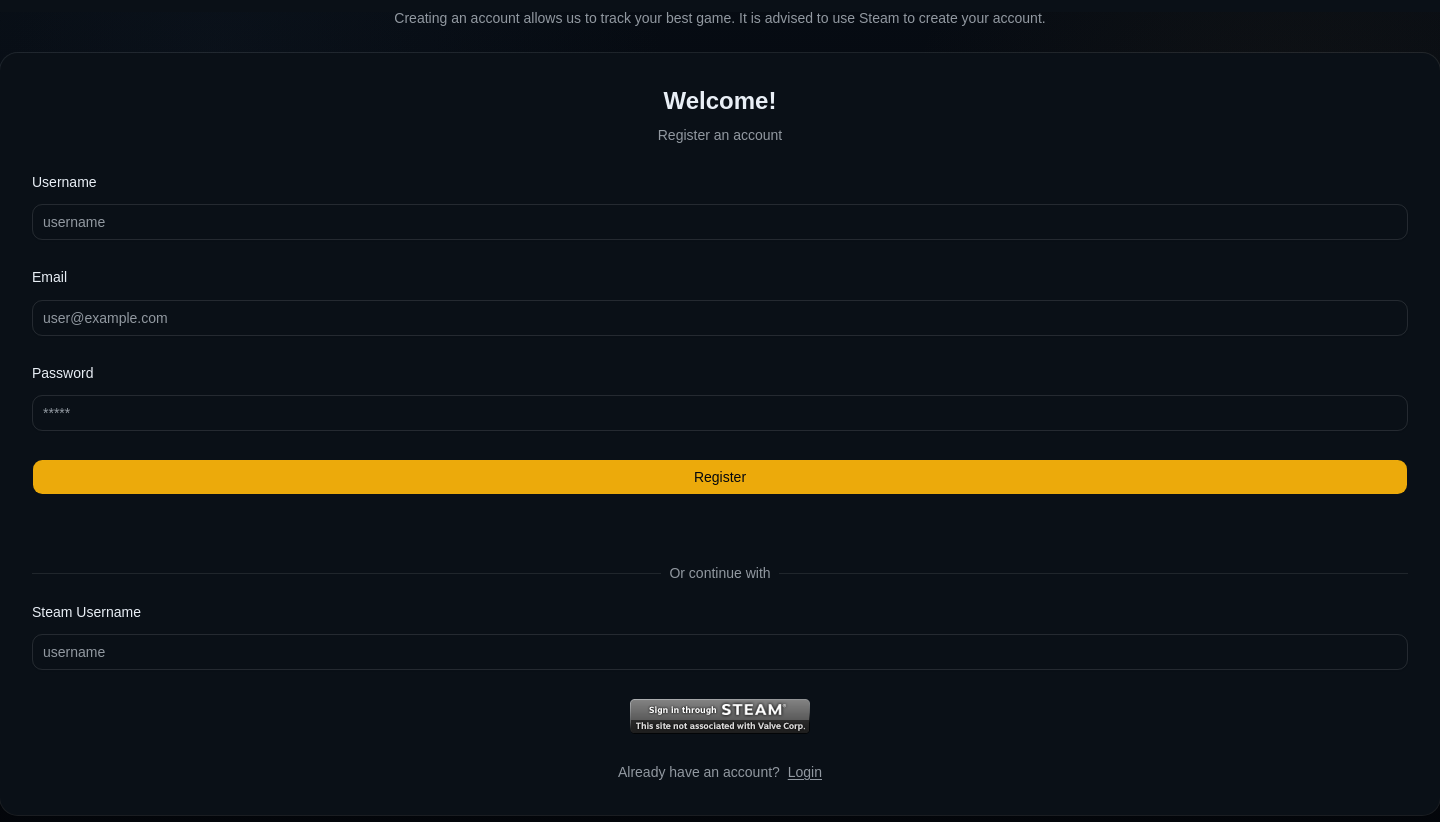
Test: RegistrationForm › registers the user, sets a success notification, and navigates home
Type "playerusername" into the field labelled "Username" at (720, 222), box [32,204,1408,240]
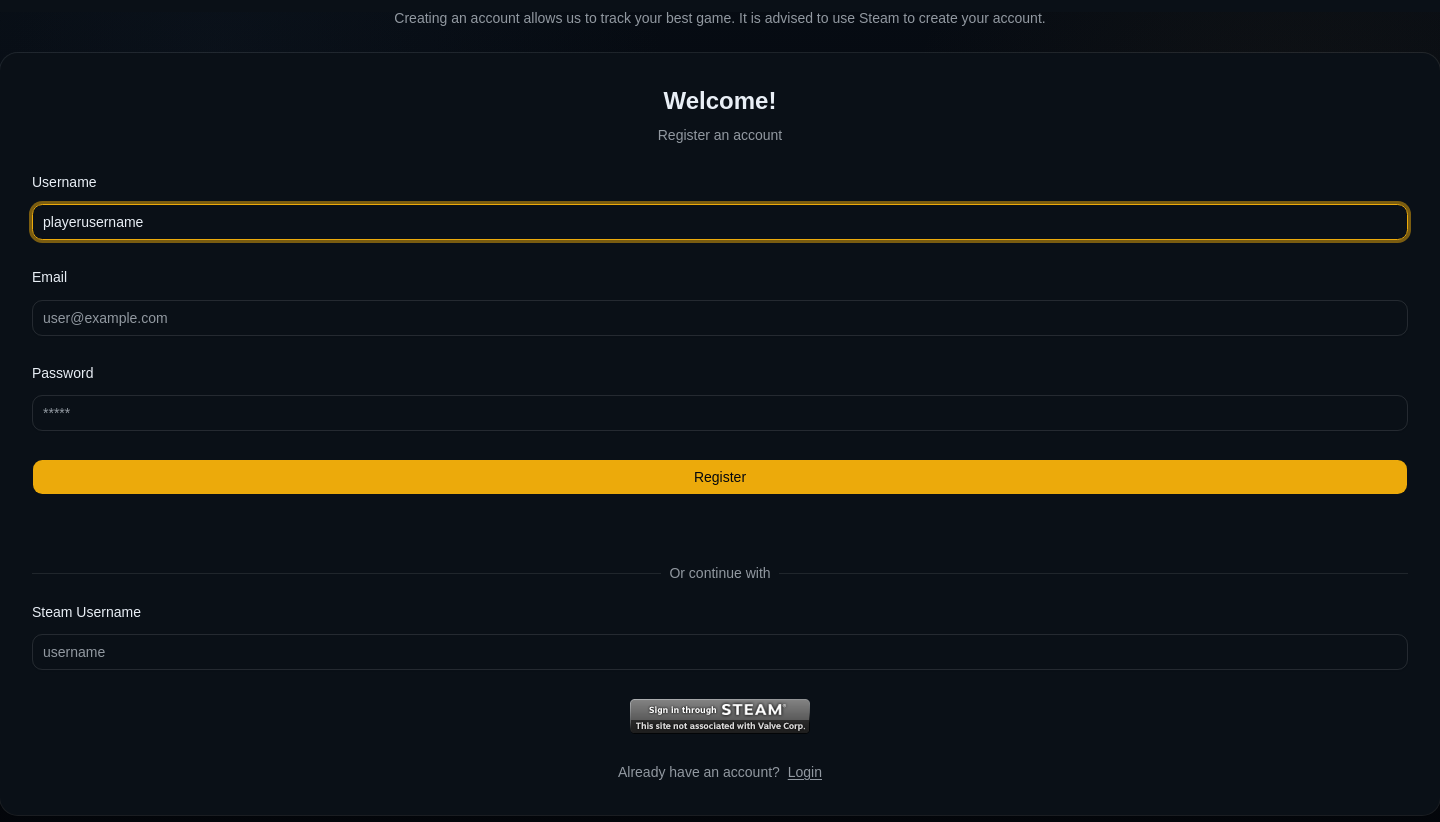
Type "player@example.com" into the field labelled "Email" at (720, 318), box [32,300,1408,336]
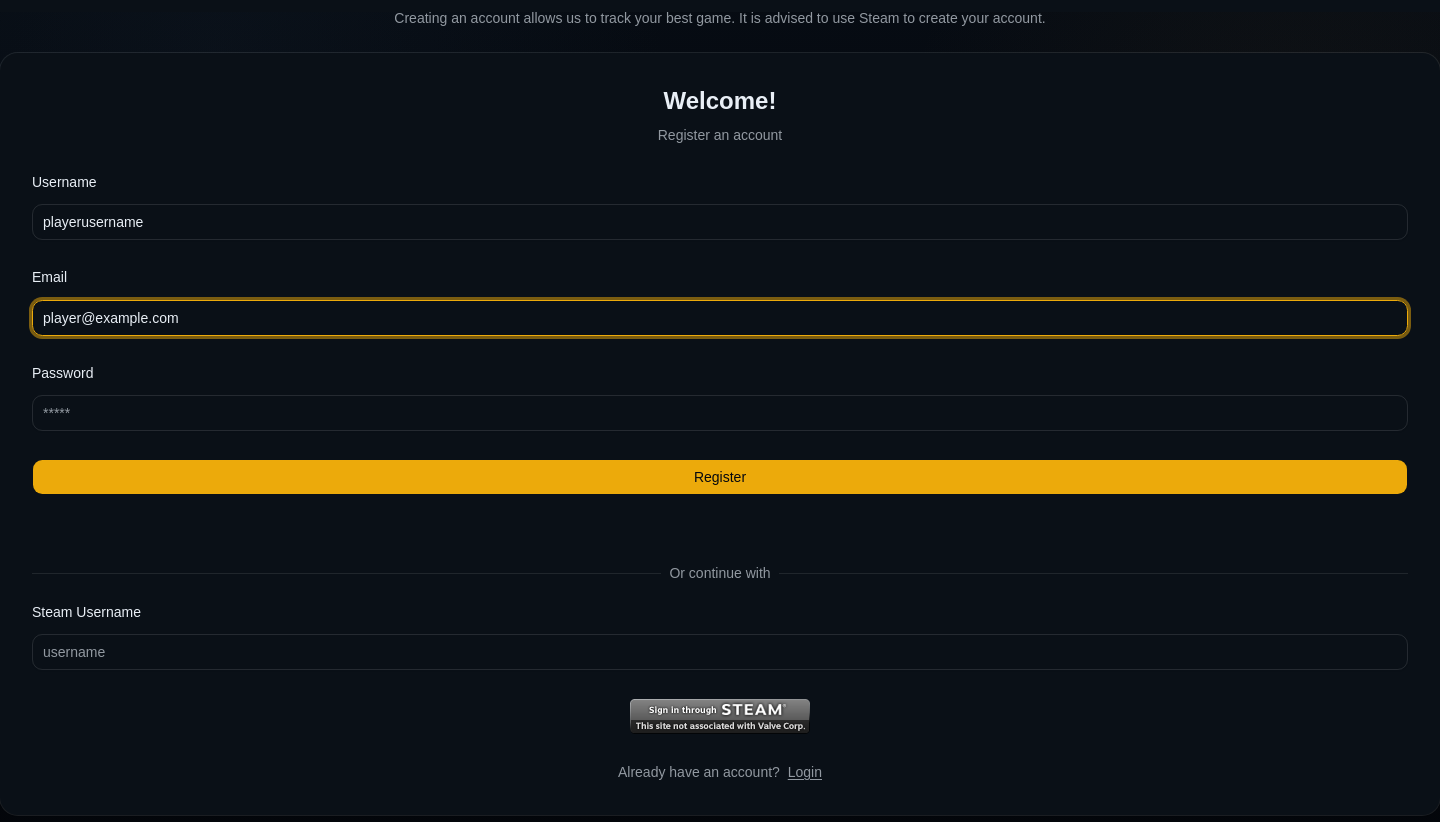
Type "playerexamplepassword" into the password field labelled "Password" at (720, 413), box [32,395,1408,431]
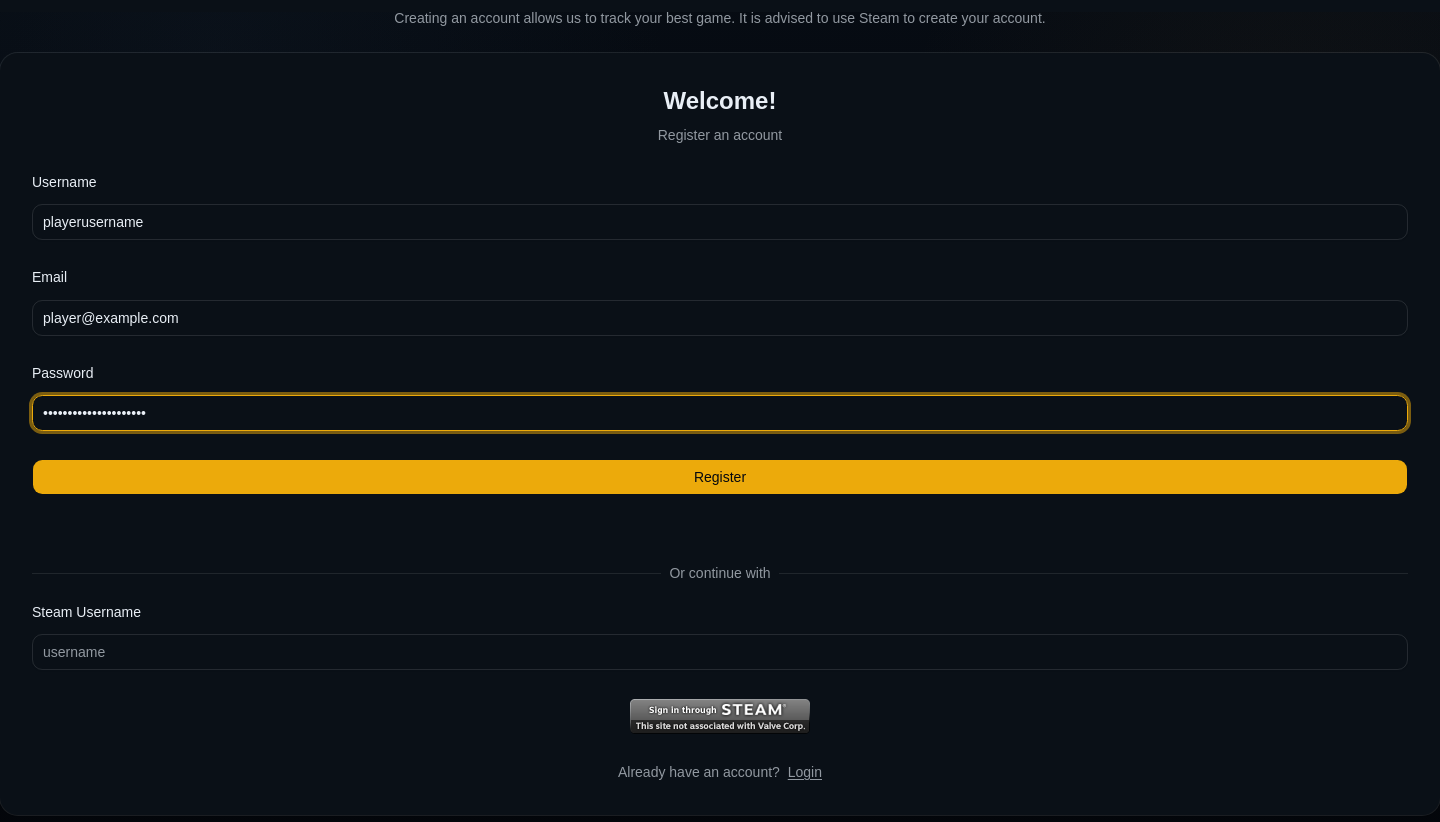
Click the button "Register" at (720, 477), box [32,459,1408,495]
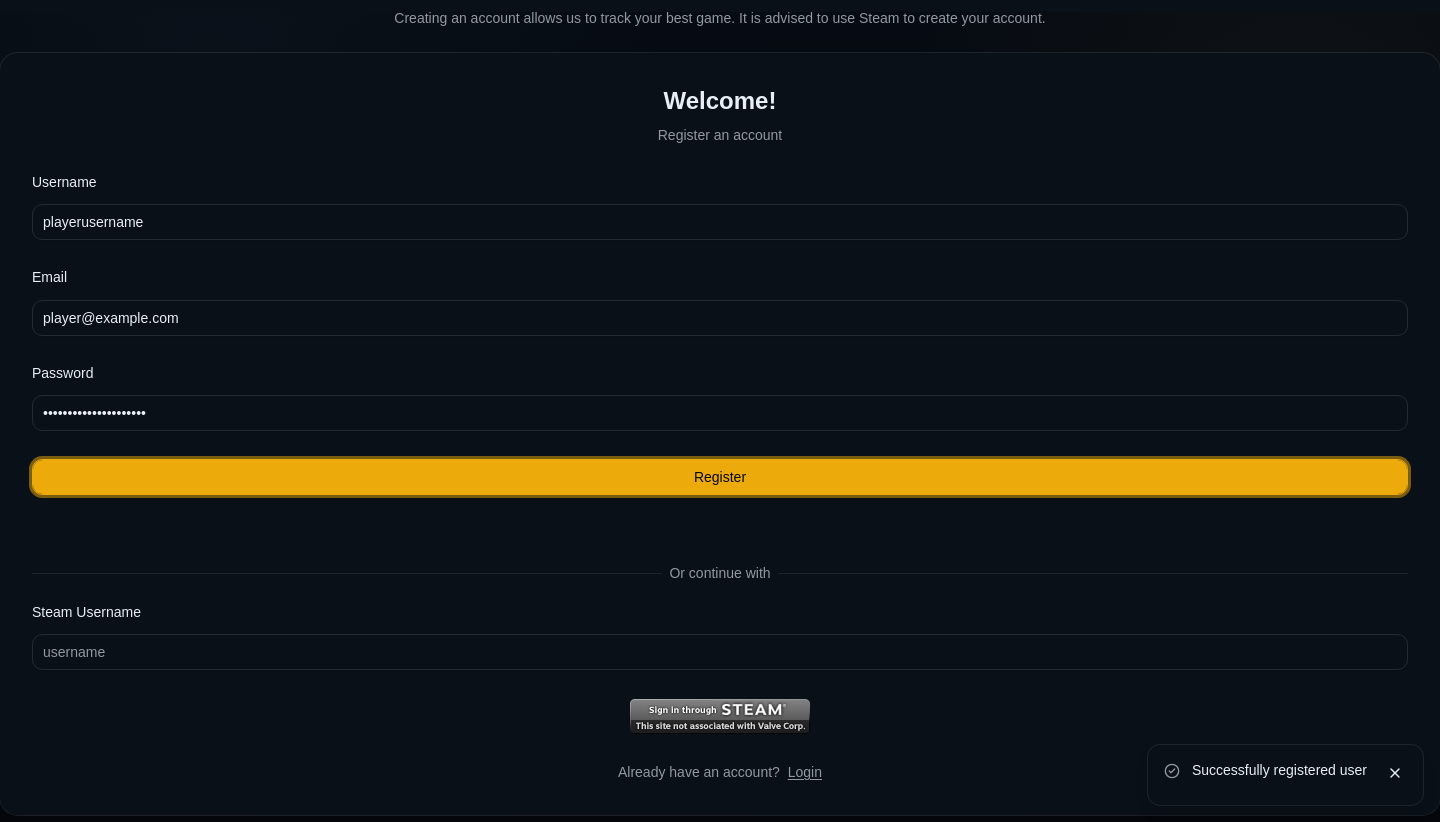
Now the text "Successfully registered user" is shown, box [1192,761,1367,780]
